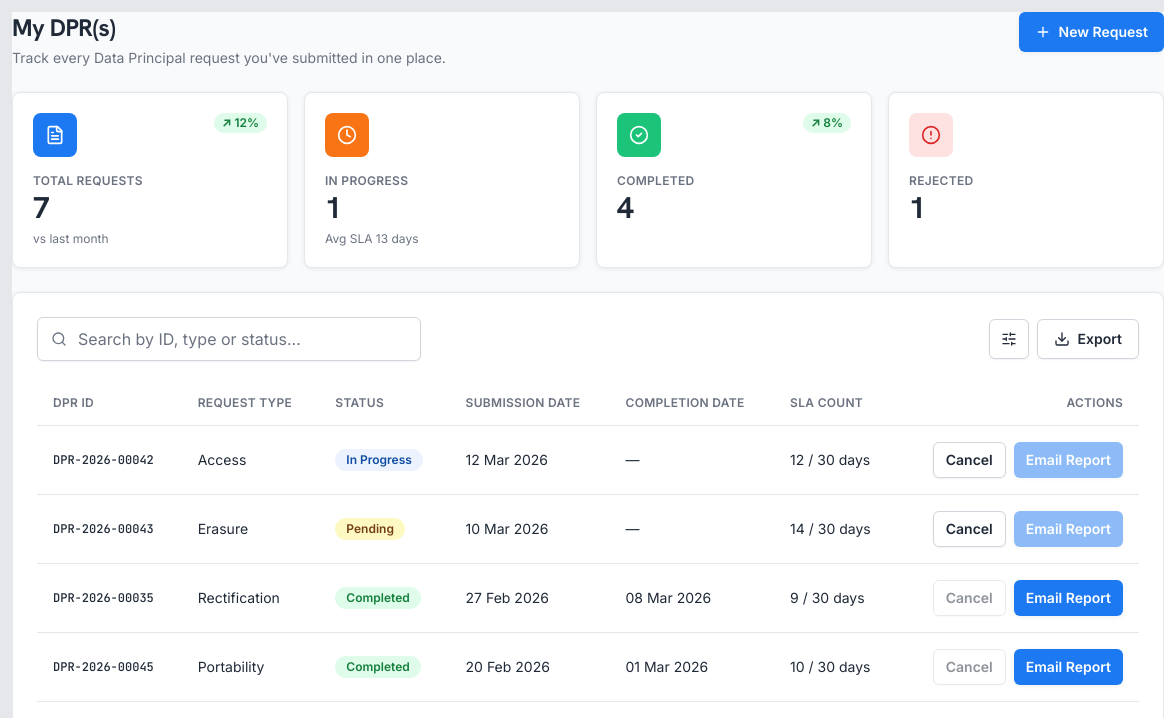
it: RightsModule › emails a report and announces it via a status toast
Click the button "Email Report" in the row of "DPR-2026-00035" at (1068, 598), box [1014,580,1123,616]
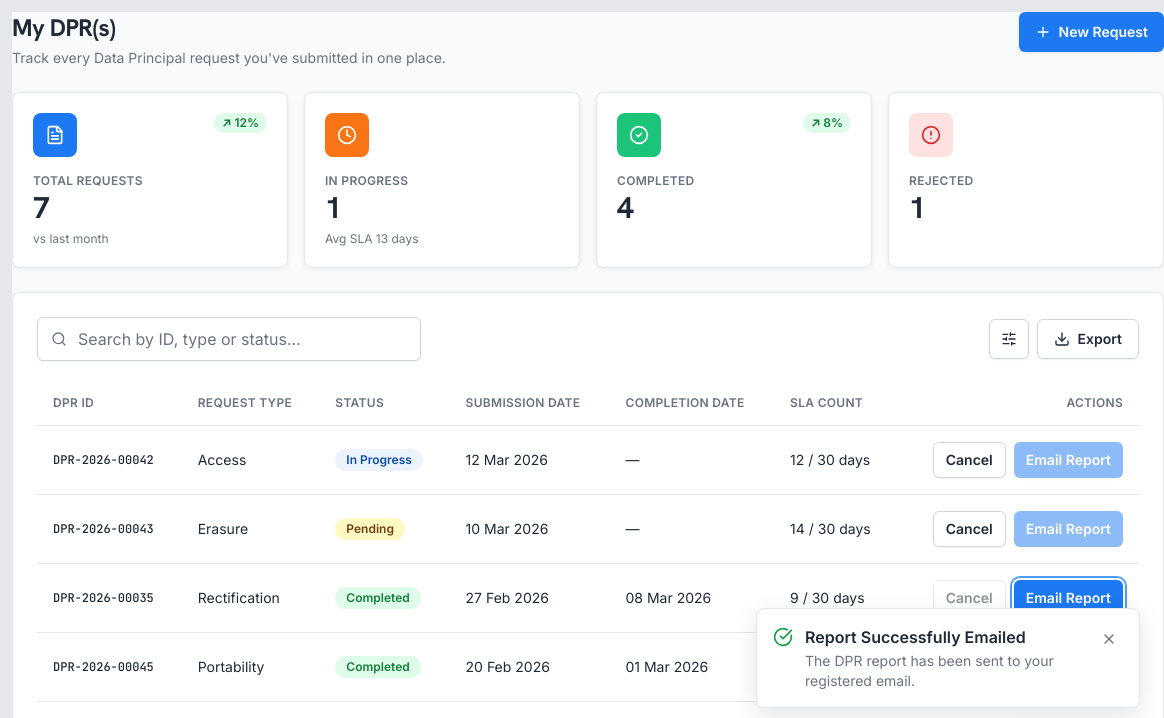
Check: the message shows "Report Successfully Emailed", box [805,627,1026,647]
